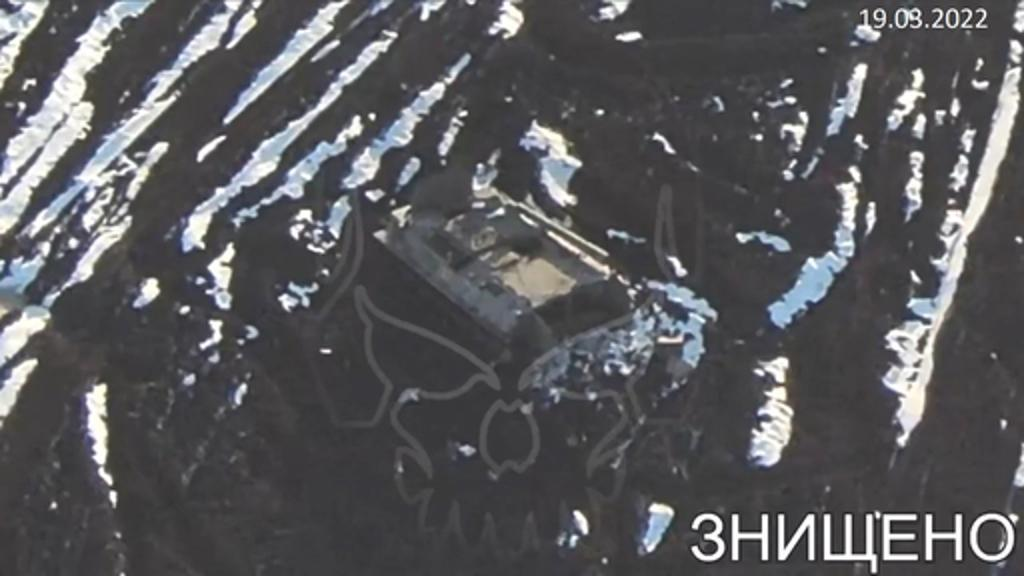APC-IFV: (358, 162, 646, 368)
